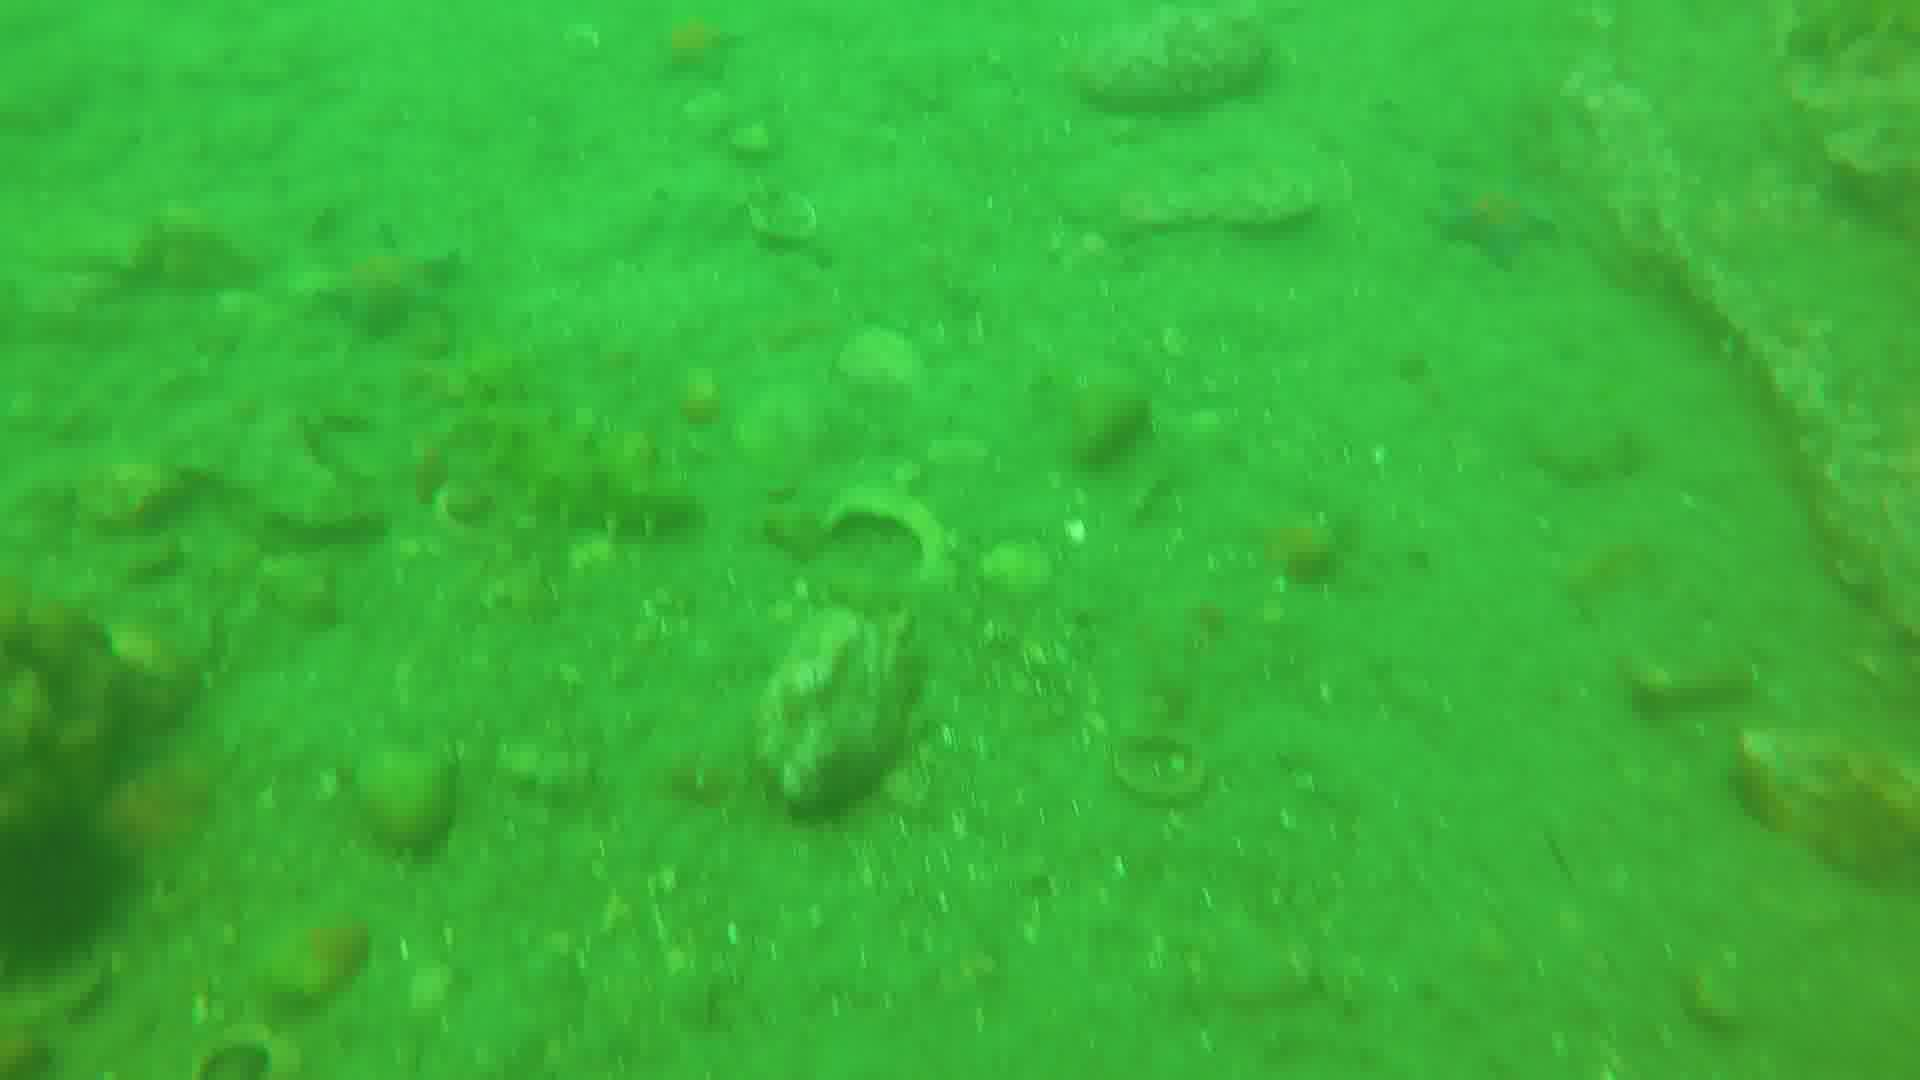holothurian: (442, 357, 698, 527)
starfish: (316, 228, 435, 336), (1245, 497, 1365, 589), (1445, 175, 1556, 266), (661, 15, 745, 76)
